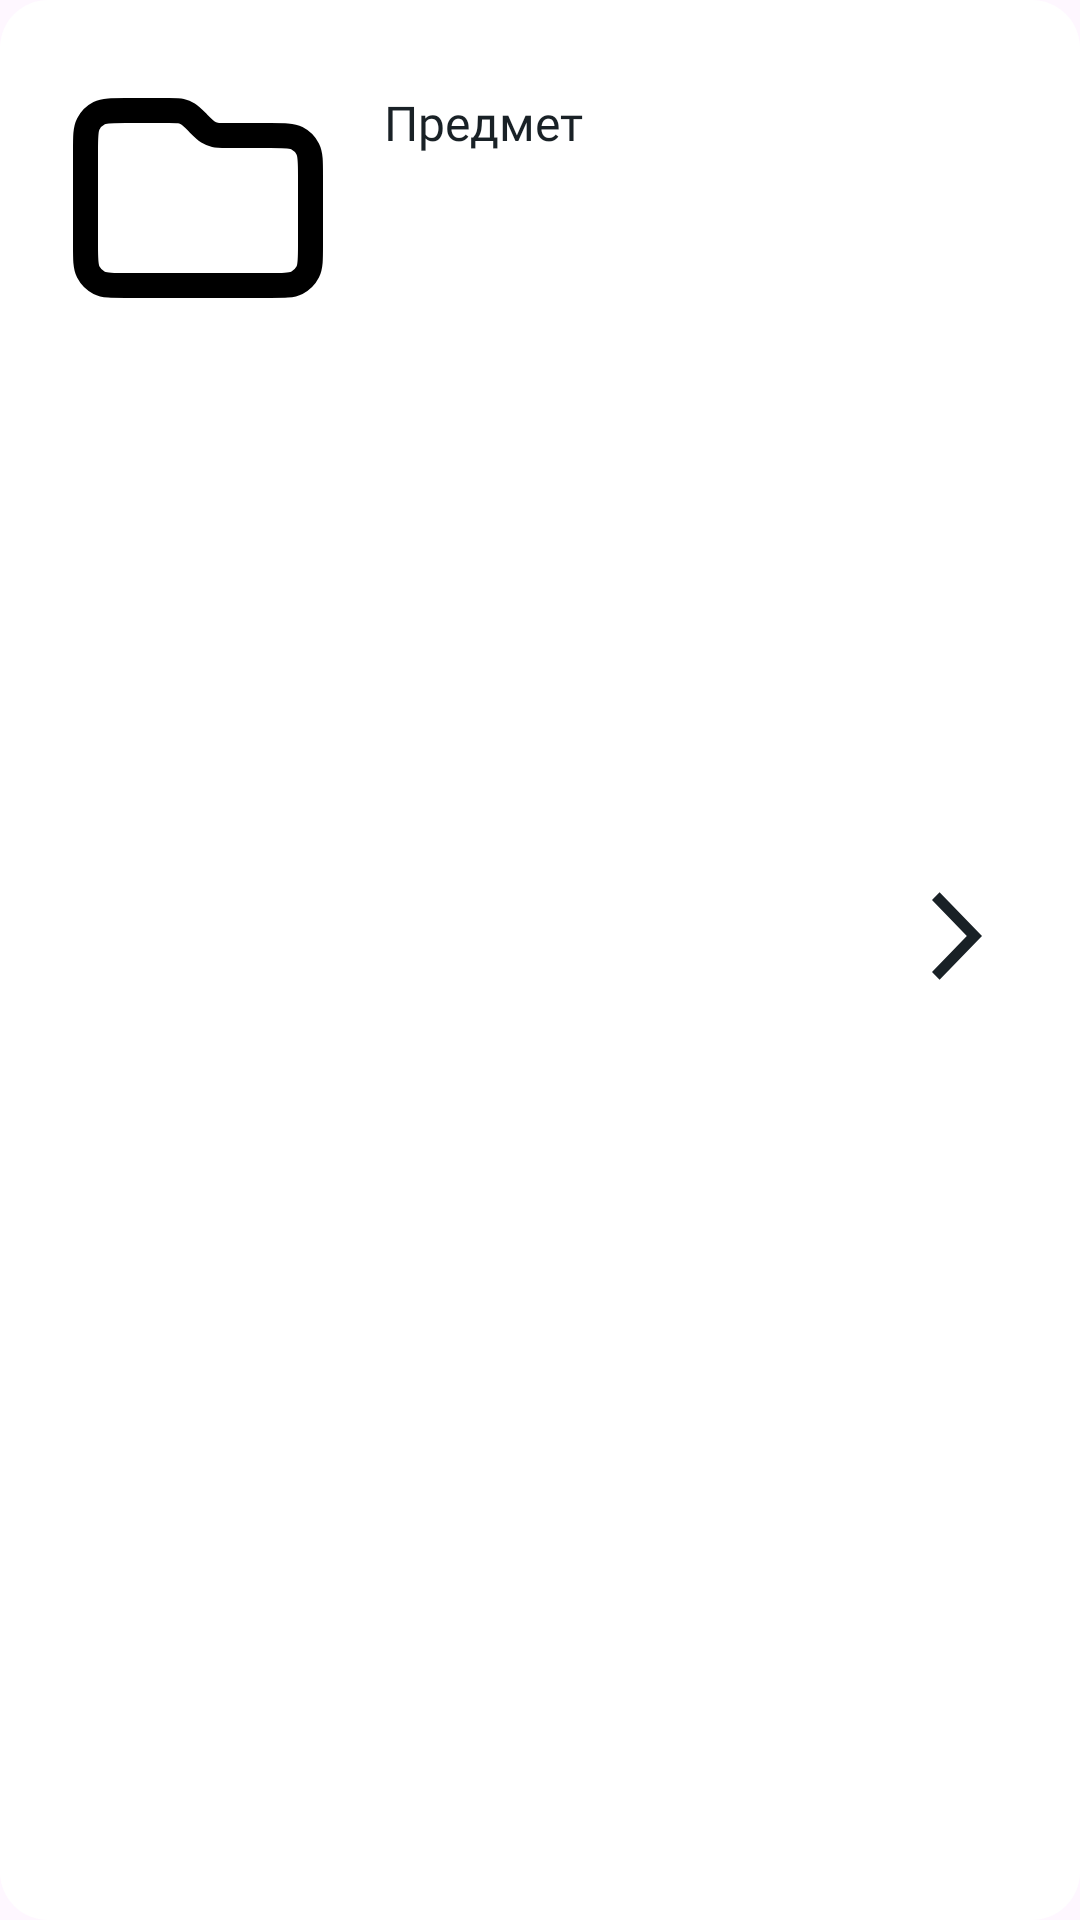

Icons on this 1080*1920 Android screen, each with its box as (x1, y1, x2, y2):
arrow: (932, 892, 982, 980)
folder: (73, 98, 323, 298)
